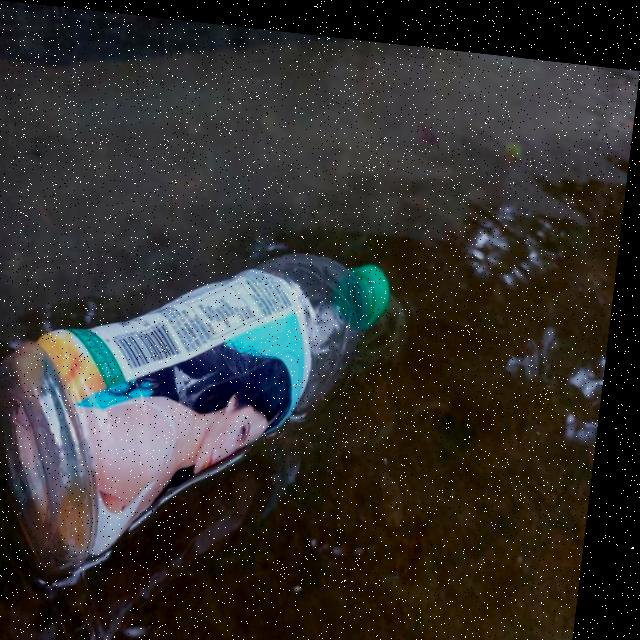waterbottle: (0, 212, 411, 640)
